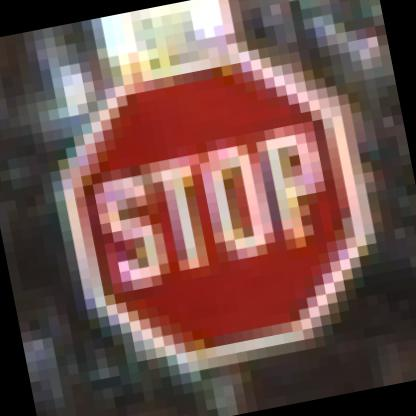stop: (35, 12, 400, 389)
